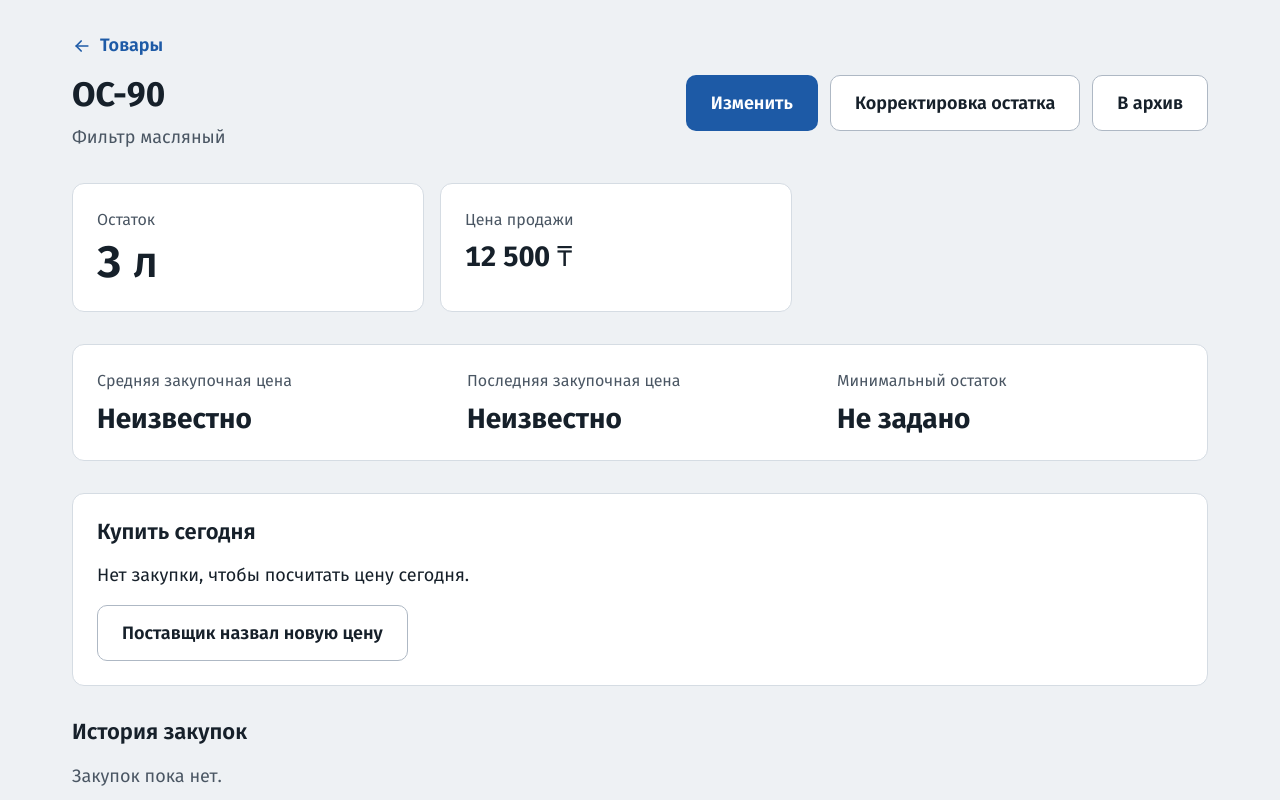
Test: archive warning uses the product unit in ru
The width and height of the screenshot is (1280, 800).
Click the button "В архив" at (1150, 103), box [1092, 75, 1208, 131]
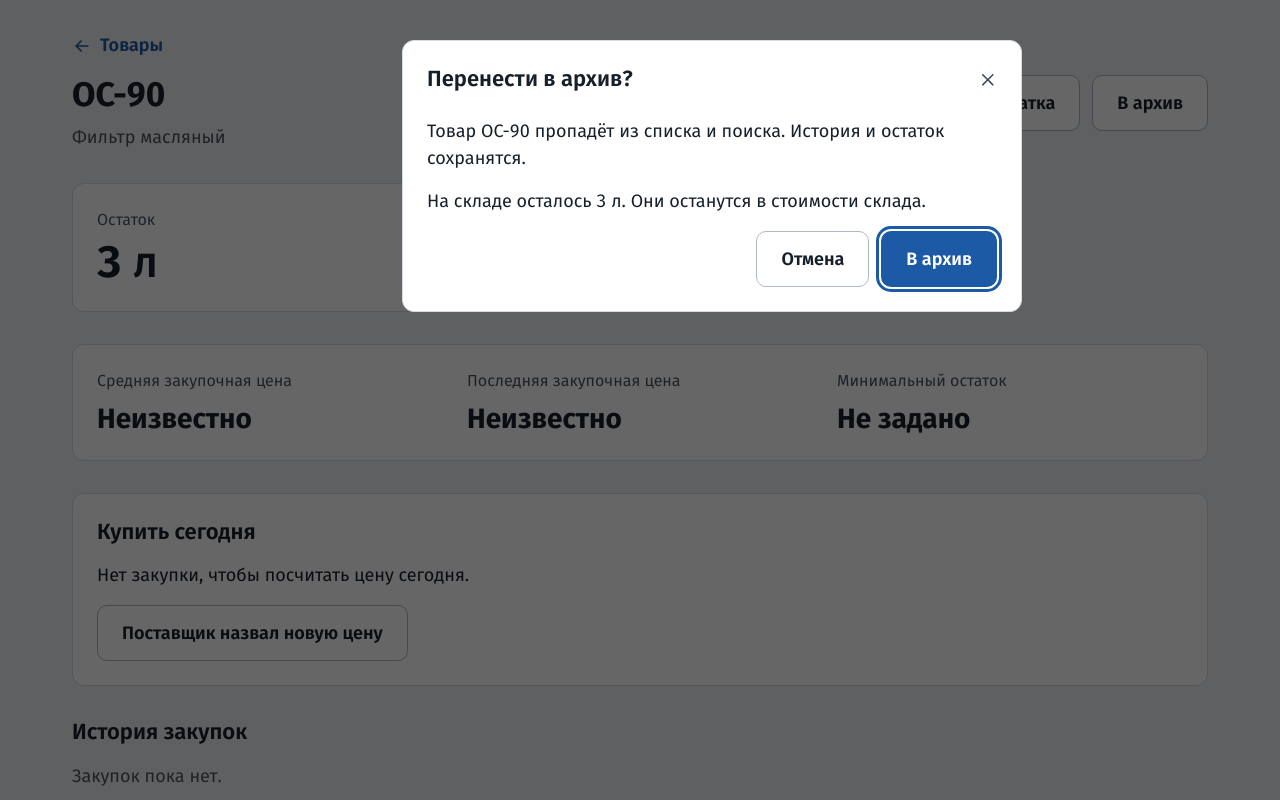
Result: the text "На складе осталось 3 л. Они останутся в стоимости склада." is shown at [427, 188, 997, 215]
